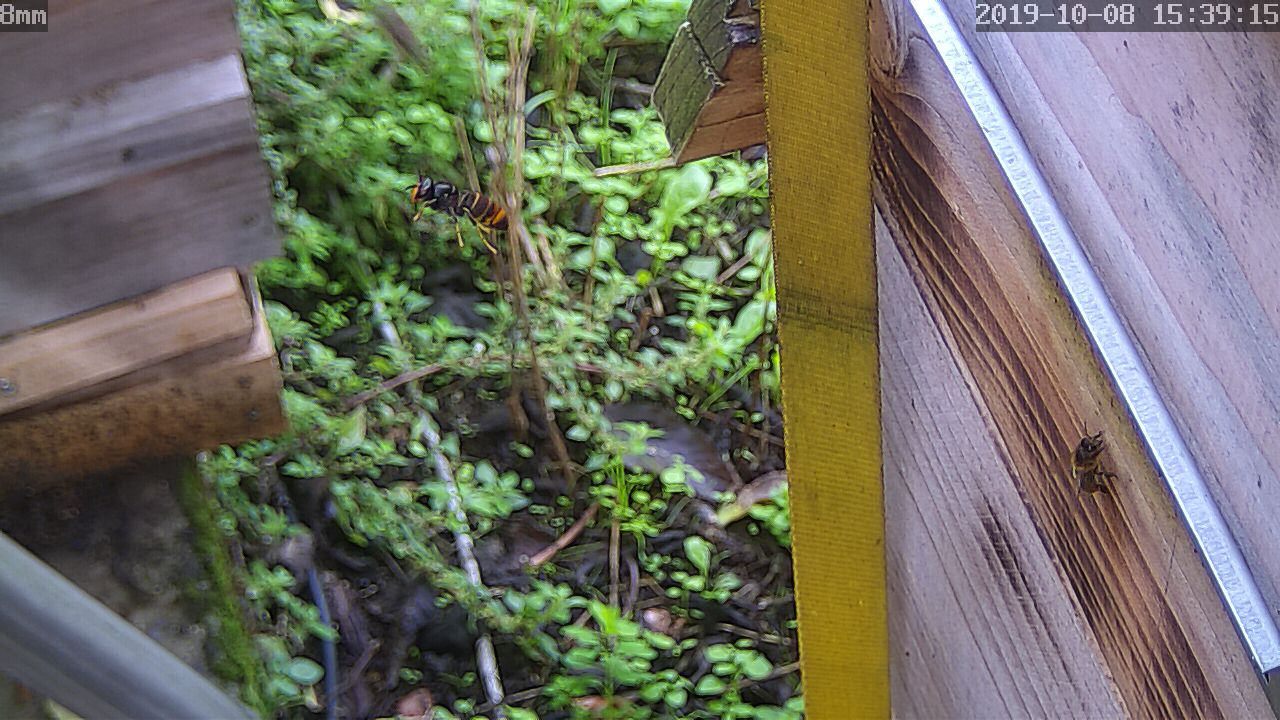bee: (1055, 424, 1120, 504)
hornet: (400, 164, 517, 246)
